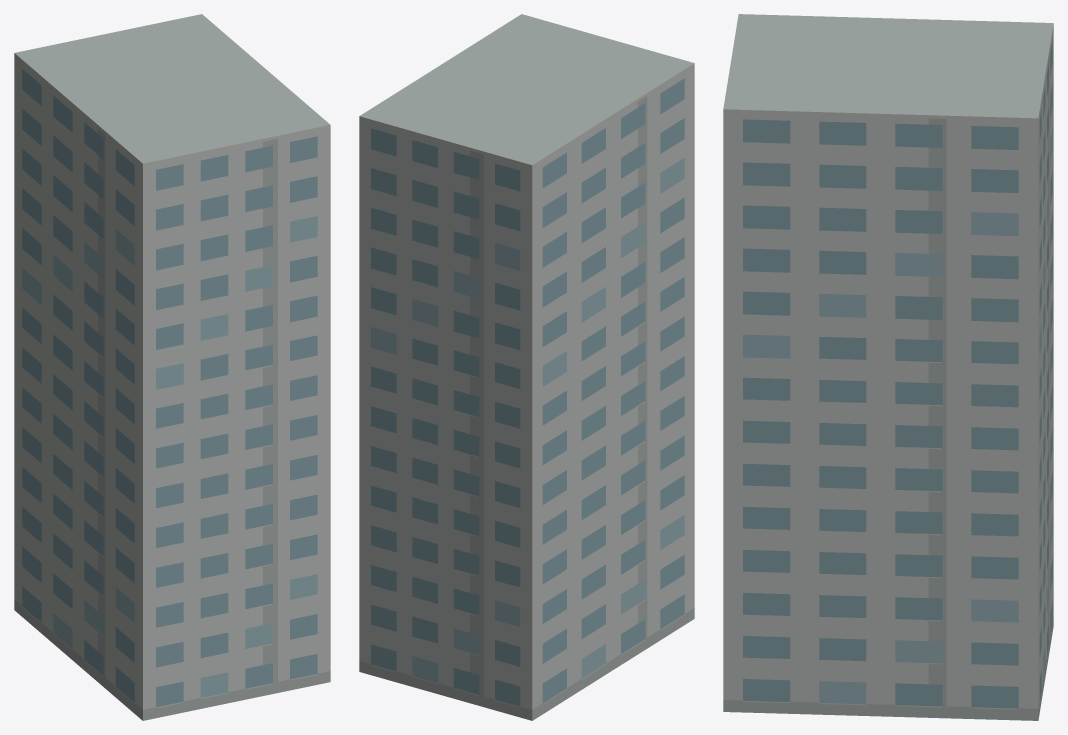
File: residential-f13ecead-7d56-42b0-87b2-6e4061fbd39a.glb
The picture shows the model from 3 angles, left to right: view 1: azimuth 30°, elevation 25°; view 2: azimuth 150°, elevation 25°; view 3: azimuth 270°, elevation 25°; orthographic projection. The views are drawn at different scales.
Parts seen in each view (by area): view 1: residential-f13ecead-7d56-42b0-87b2-6e4061fbd39a.tmp; view 2: residential-f13ecead-7d56-42b0-87b2-6e4061fbd39a.tmp; view 3: residential-f13ecead-7d56-42b0-87b2-6e4061fbd39a.tmp.
Boxes of the visible parts, x1=… form: residential-f13ecead-7d56-42b0-87b2-6e4061fbd39a.tmp: x1=14, y1=14, x2=330, y2=720; residential-f13ecead-7d56-42b0-87b2-6e4061fbd39a.tmp: x1=359, y1=14, x2=694, y2=720; residential-f13ecead-7d56-42b0-87b2-6e4061fbd39a.tmp: x1=723, y1=14, x2=1053, y2=720.
Bounding box in the file's own units: 16.35 × 44 × 21.88.
